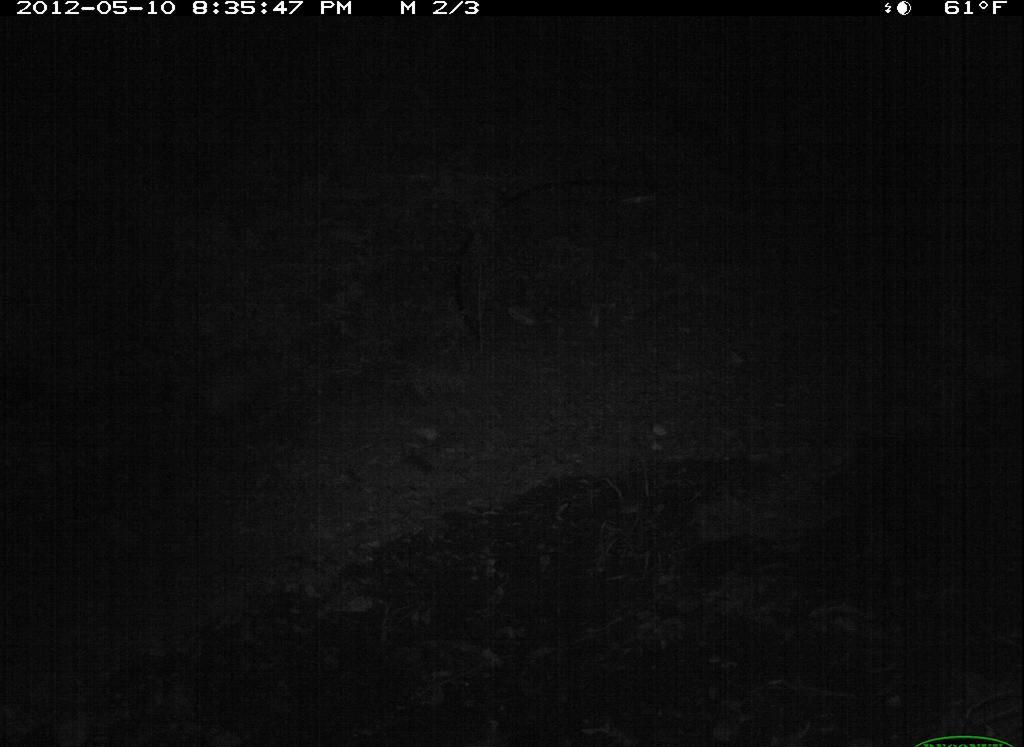opossum: (164, 336, 298, 445)
